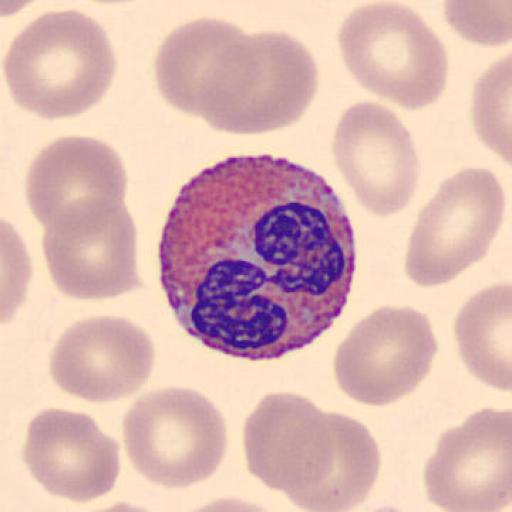RBC: (242, 390, 381, 511), (194, 27, 319, 137), (1, 8, 118, 122), (152, 15, 260, 135), (404, 164, 506, 290), (336, 1, 450, 112), (120, 384, 230, 490), (332, 303, 439, 408), (24, 133, 130, 238), (40, 196, 142, 302), (278, 409, 382, 512), (331, 99, 421, 217), (48, 312, 157, 406), (20, 406, 122, 505), (241, 389, 335, 494), (422, 405, 512, 512), (452, 282, 512, 394), (471, 48, 512, 166), (1, 218, 33, 326), (442, 1, 512, 47), (173, 493, 294, 512), (68, 499, 181, 512), (339, 502, 429, 512), (1, 0, 41, 18)
WBC: (158, 154, 360, 360)
